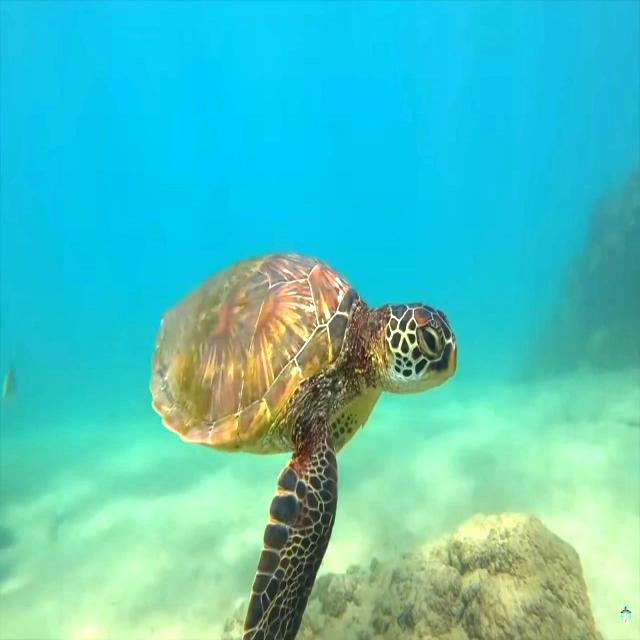Sea turtle: (142, 248, 460, 640)
